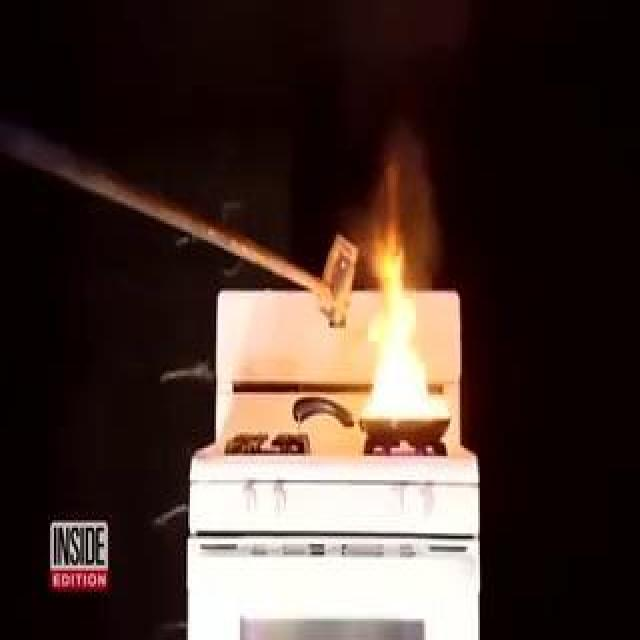Fire: (353, 210, 441, 434)
